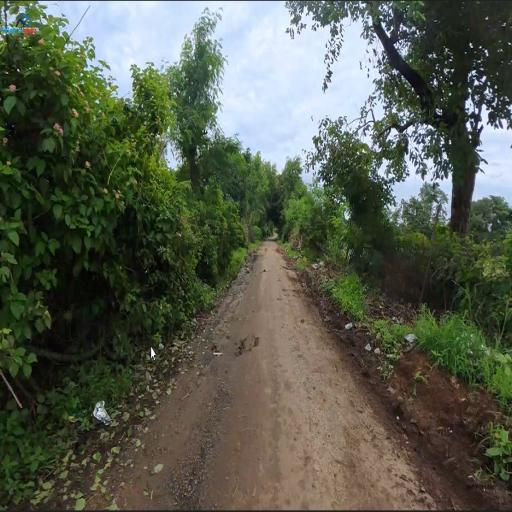ravelling: (190, 419, 274, 490)
